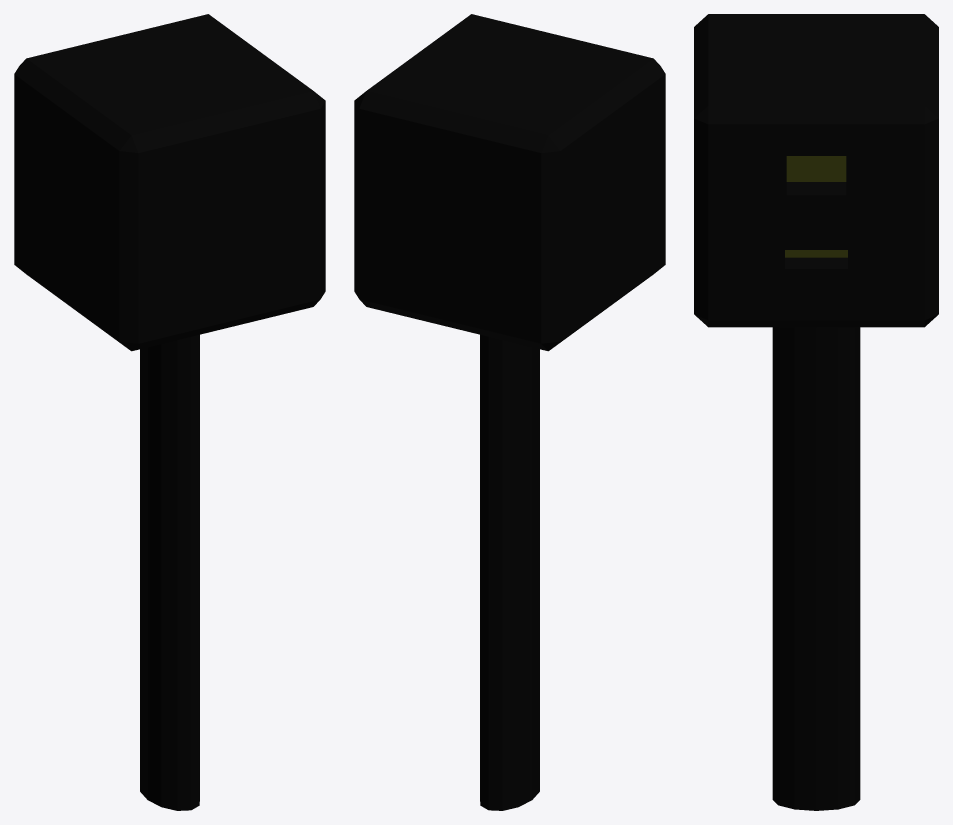
The model's file is RadarSemaforo.fbx.
3 views of the same model, side by side, from view 1: azimuth 30°, elevation 25°; view 2: azimuth 150°, elevation 25°; view 3: azimuth 270°, elevation 25° (orthographic). The views are drawn at different scales.
Visible parts, largest first — view 1: RadarSemaforo; view 2: RadarSemaforo; view 3: RadarSemaforo.
Part boxes in pixels (x1,y1,x2,y2): RadarSemaforo: (14, 14, 325, 810); RadarSemaforo: (354, 14, 665, 810); RadarSemaforo: (694, 14, 938, 810).
Size of the model in its own units: 0.3 by 1 by 0.3.
